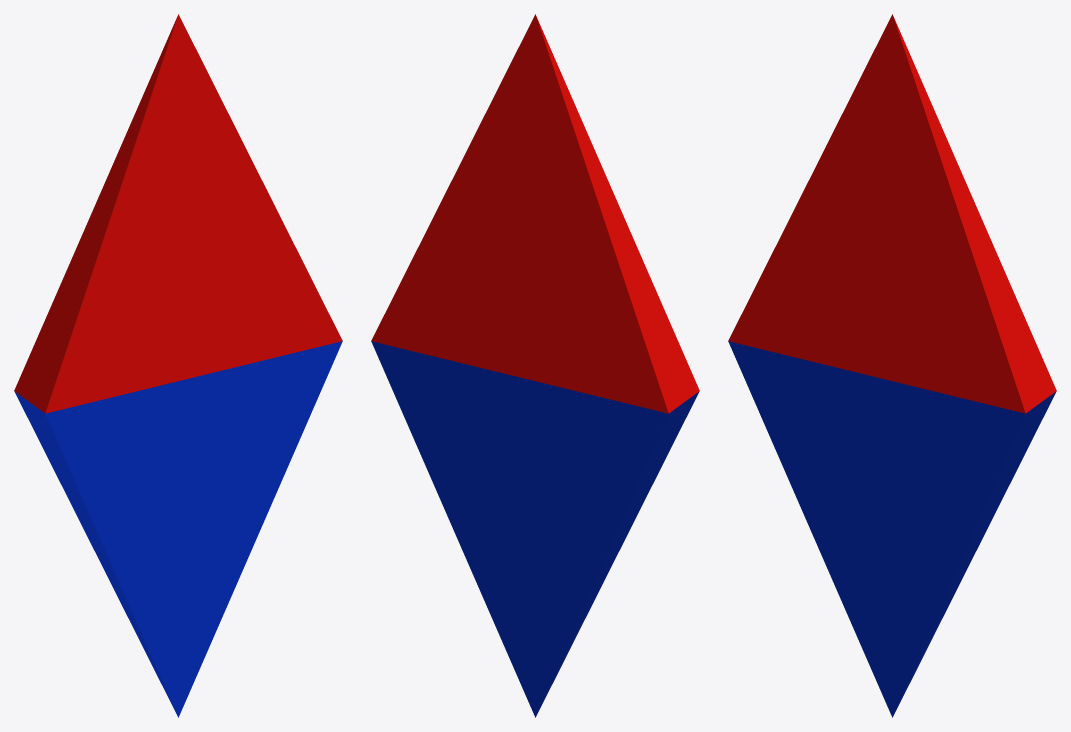
The model's file is brujulaPointer.fbx.
3 views of the same model, side by side, from view 1: azimuth 30°, elevation 25°; view 2: azimuth 150°, elevation 25°; view 3: azimuth 330°, elevation 25° (orthographic).
Parts seen in each view (by area): view 1: Cube; view 2: Cube; view 3: Cube.
Part boxes in pixels (left/top/right/bottom): Cube: left=14, top=14, right=342, bottom=717; Cube: left=371, top=14, right=699, bottom=717; Cube: left=728, top=14, right=1056, bottom=717.
Size of the model in its own units: 54.06 by 122 by 9.8.
